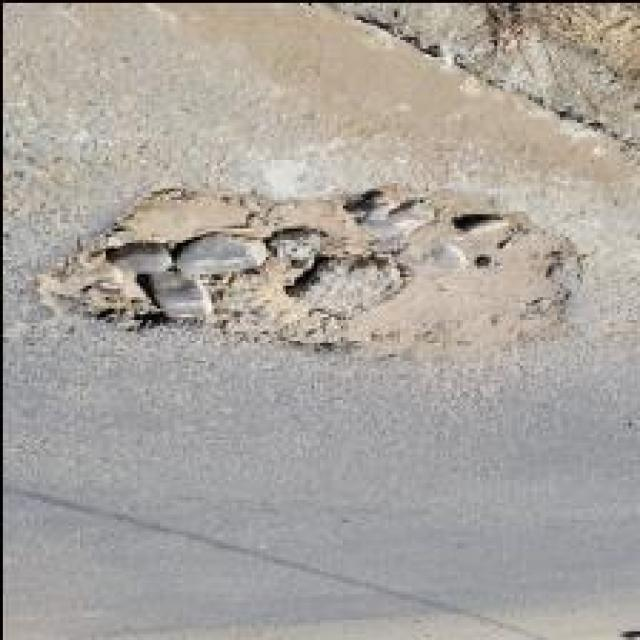BACHE: (39, 185, 582, 352)
